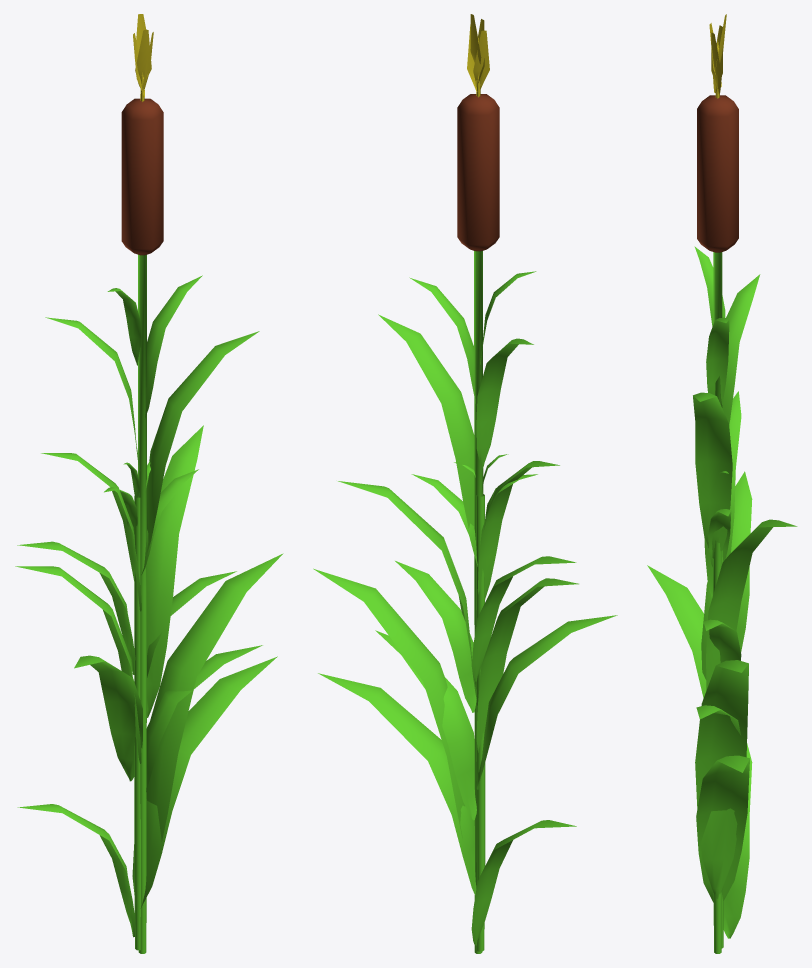
Rendered from swamp_cattail.fbx.
3 views of the same model, side by side, from view 1: azimuth 30°, elevation 25°; view 2: azimuth 150°, elevation 25°; view 3: azimuth 270°, elevation 25° (orthographic).
Parts seen in each view (by area): view 1: Cattail, Cattail_02; view 2: Cattail, Cattail_02; view 3: Cattail, Cattail_02.
Part boxes in pixels (x1,y1,x2,y2): Cattail: [15, 14, 283, 953]; Cattail_02: [17, 461, 277, 950]; Cattail: [313, 14, 578, 953]; Cattail_02: [318, 454, 617, 951]; Cattail: [693, 14, 797, 953]; Cattail_02: [647, 471, 752, 948].
Size of the model in its own units: 0.5975 by 1.99 by 0.29.
